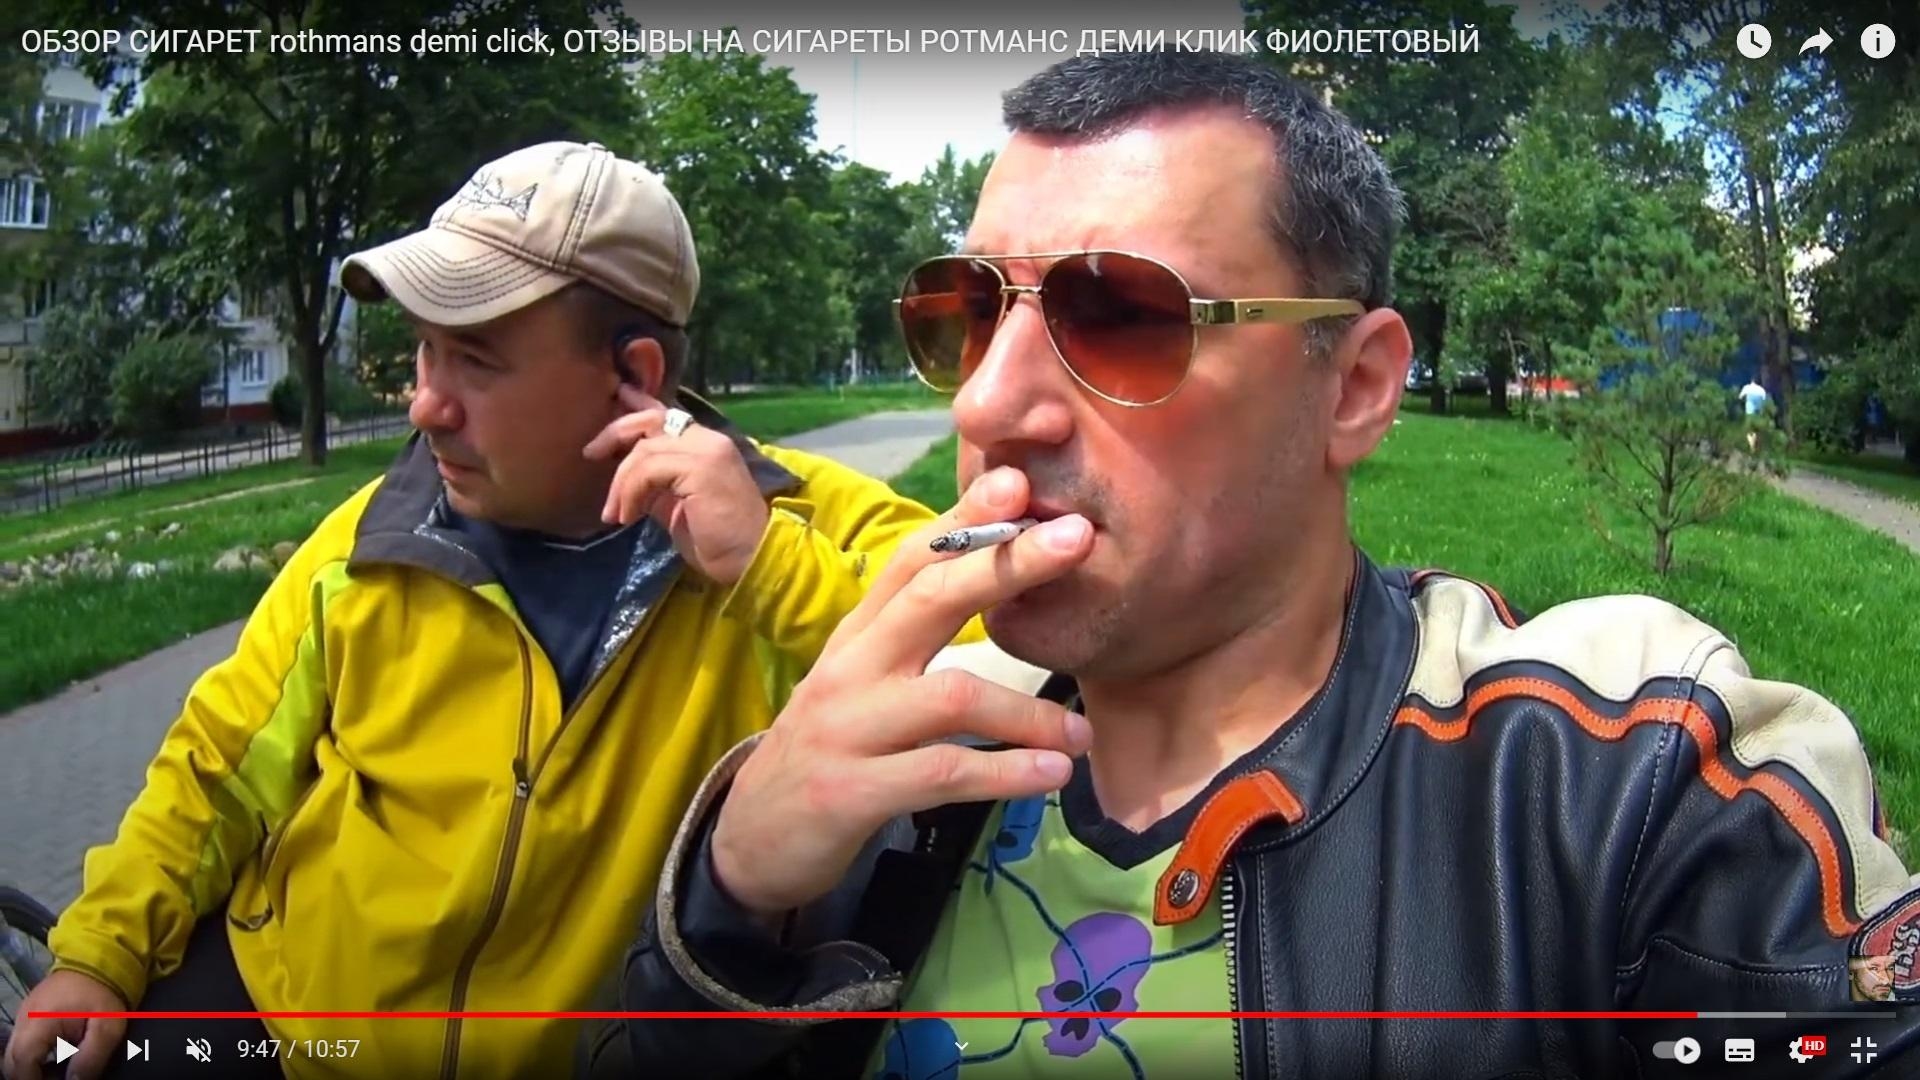cigarette: (930, 516, 1042, 554)
